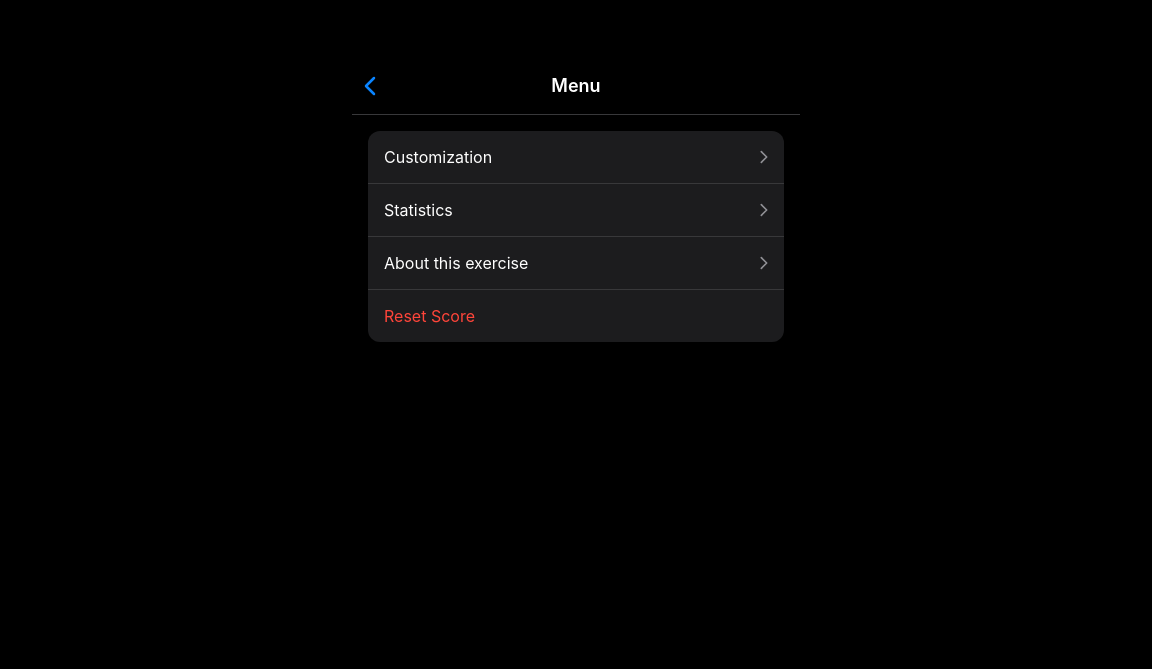
it: intervals screen › disables intervals the range cannot reach
The width and height of the screenshot is (1152, 669).
Click the button "Customization". click: (438, 157)
box: [368,131,784,183]
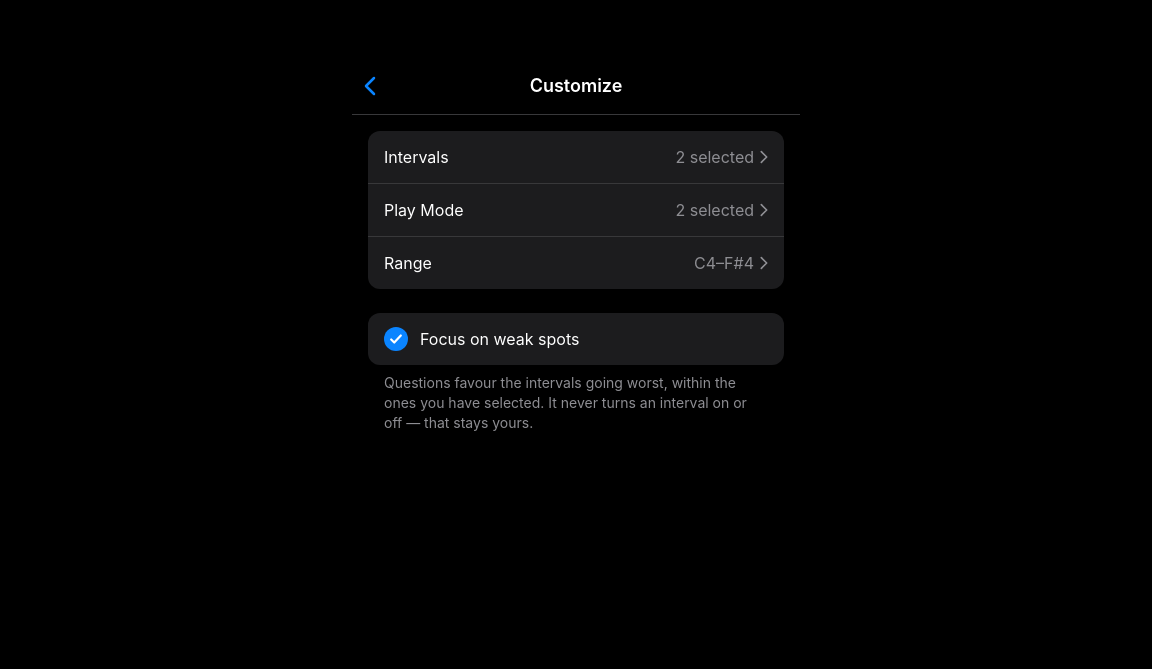
Click the button "Intervals 2 selected". click: (416, 157)
box: [368,131,784,183]
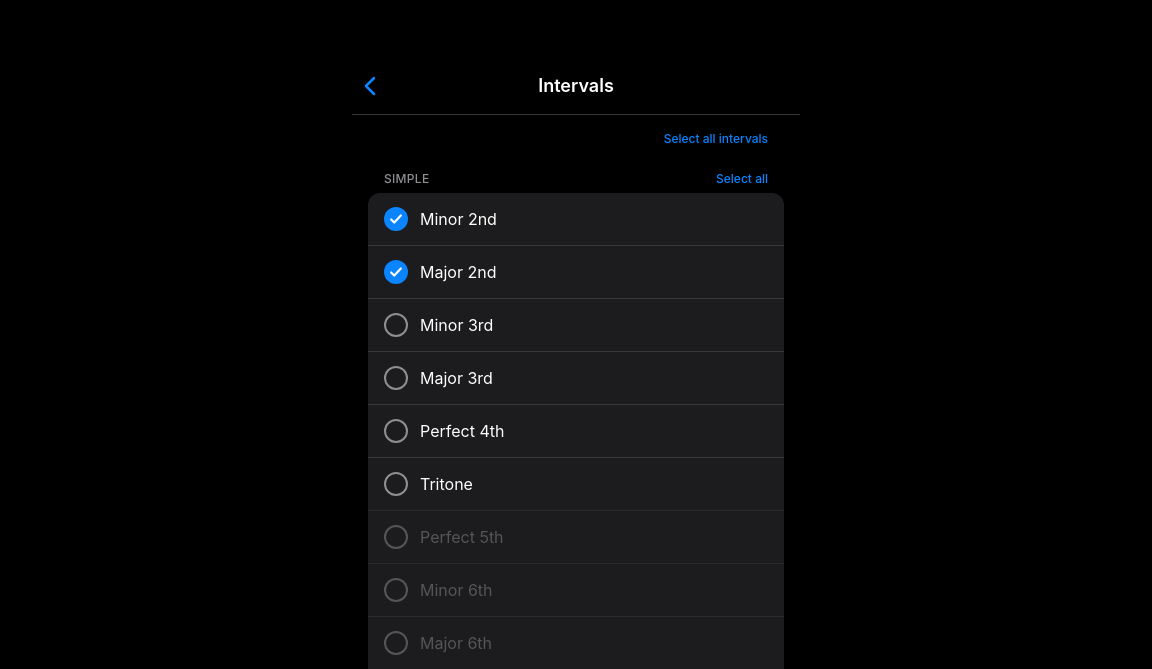
Check: the checkbox labelled "Perfect 4th" is enabled, box [368,404,784,457]
